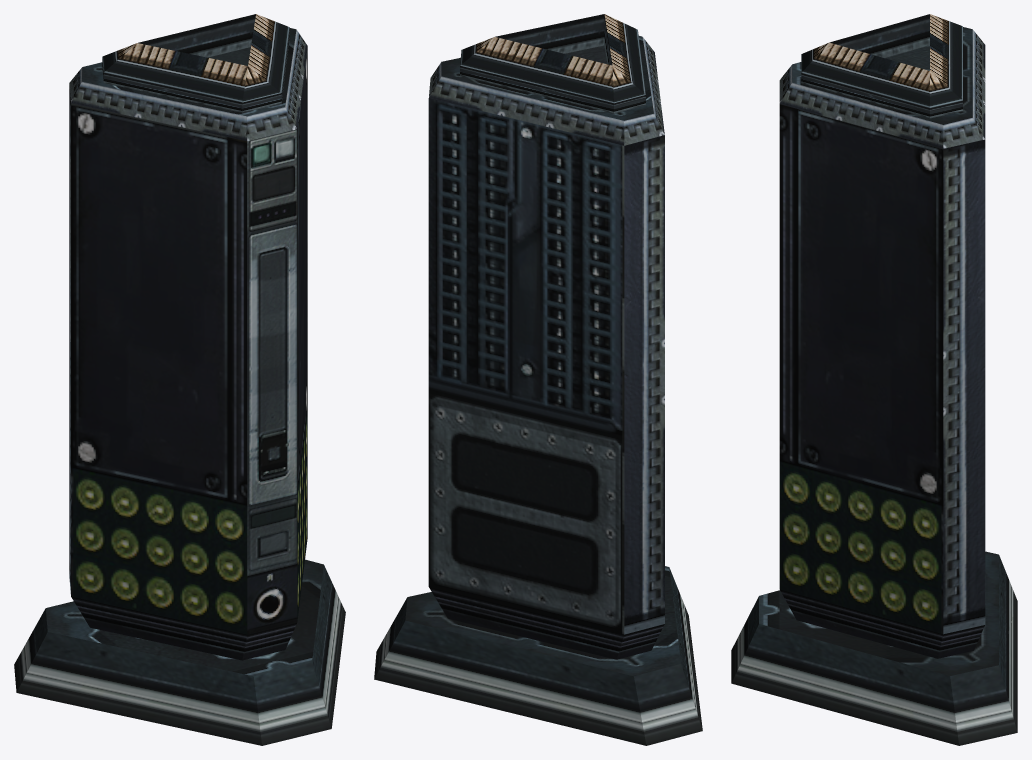
File: Pillar01.FBX
3 renders of one model, left to right at view 1: azimuth 30°, elevation 25°; view 2: azimuth 150°, elevation 25°; view 3: azimuth 270°, elevation 25°, orthographic.
Visible parts, largest first — view 1: Pillar01; view 2: Pillar01; view 3: Pillar01.
Part boxes in pixels (x1,y1,x2,y2): Pillar01: (14,14,345,745); Pillar01: (374,14,702,745); Pillar01: (731,14,1017,745).
Size of the model in its own units: 233 by 430 by 179.
